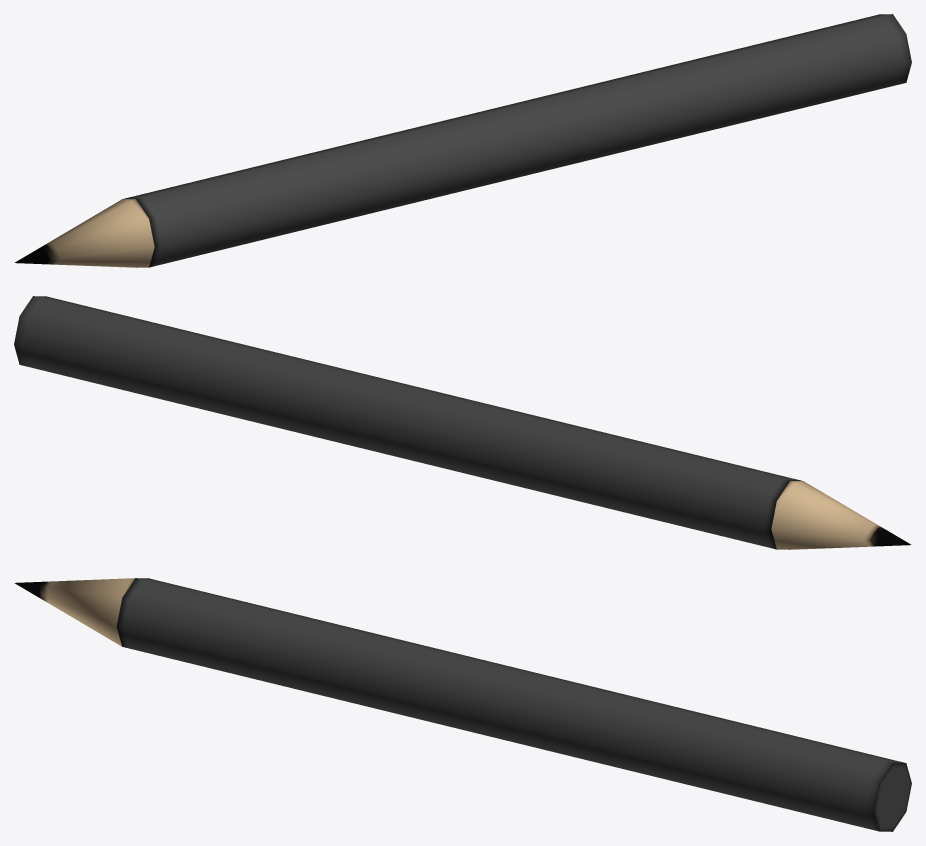
Rendered from pencil4.fbx.
3 renders of one model, top to bottom at view 1: azimuth 30°, elevation 25°; view 2: azimuth 150°, elevation 25°; view 3: azimuth 330°, elevation 25°, orthographic.
Parts seen in each view (by area): view 1: polySurface433; view 2: polySurface433; view 3: polySurface433.
Part boxes in pixels (bbox=[...]): polySurface433: bbox=[14, 14, 911, 267]; polySurface433: bbox=[14, 296, 911, 549]; polySurface433: bbox=[14, 578, 911, 831].
Size of the model in its own units: 0.1847 by 0.0138 by 0.0138.
